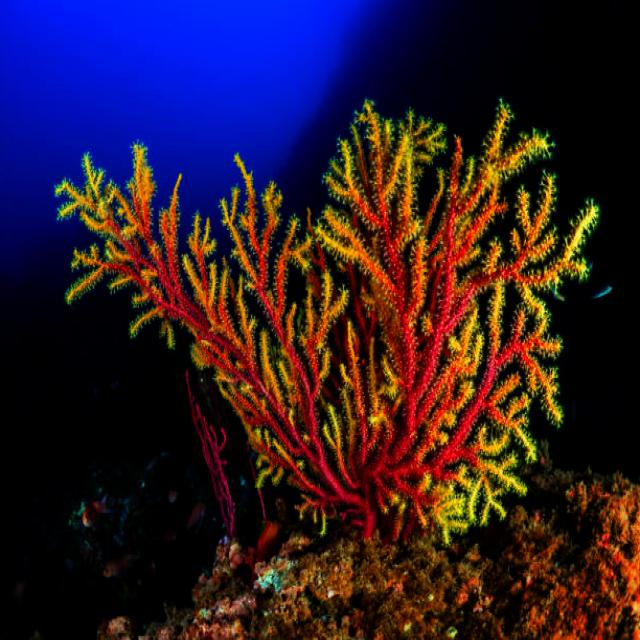Coral: (54, 96, 602, 546)
